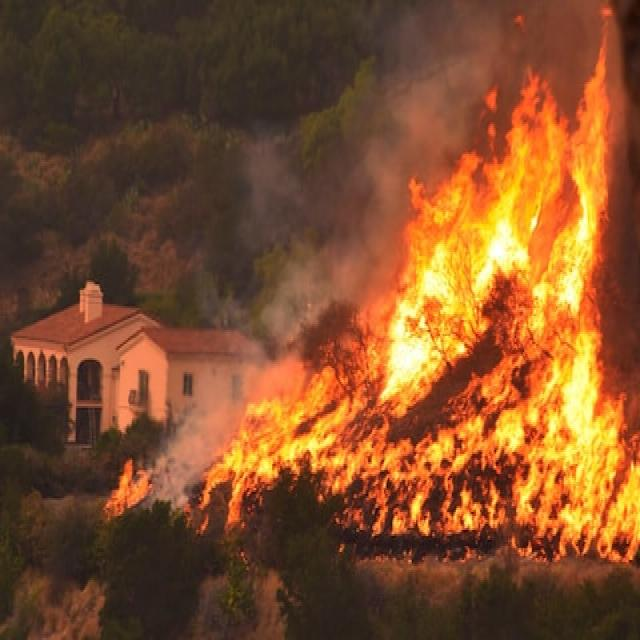Fire: (204, 20, 640, 564)
Smoke: (155, 0, 597, 510)
